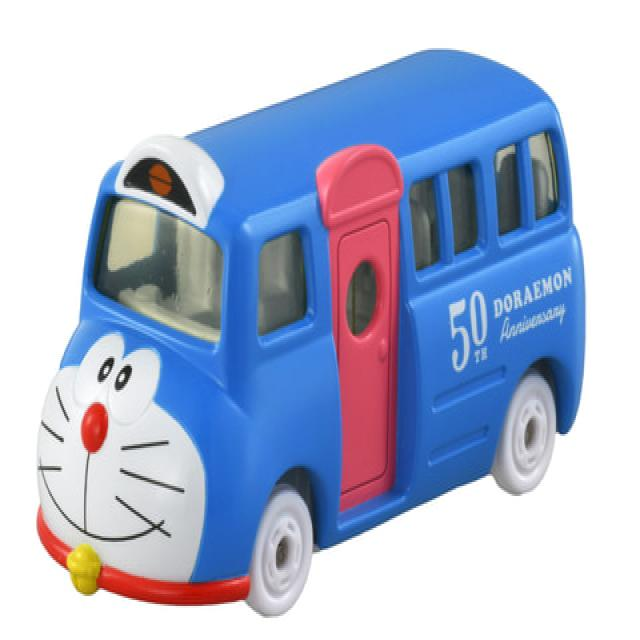doraemon: (22, 304, 242, 624)
